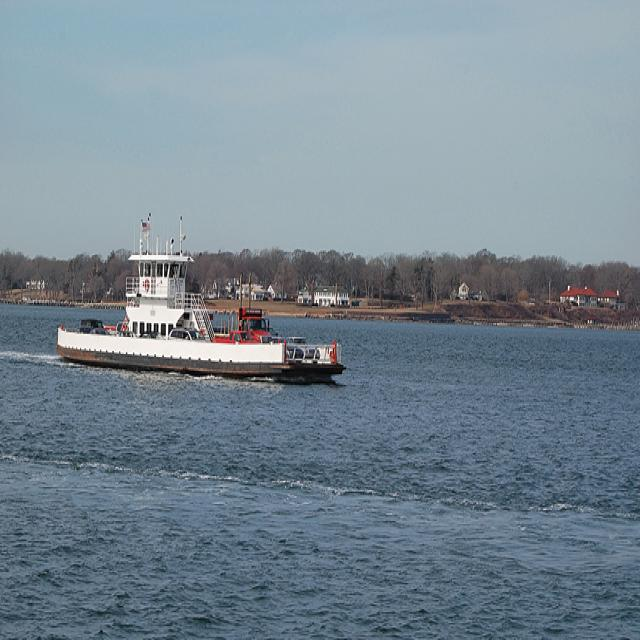cargoship: (50, 239, 354, 378)
